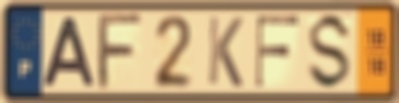2: (152, 13, 195, 91)
A: (39, 15, 98, 89)
F: (95, 11, 147, 93), (253, 13, 302, 91)
K: (206, 13, 245, 90)
S: (304, 10, 356, 93)
